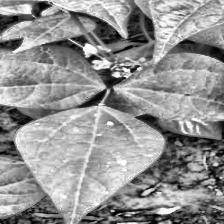Bean Rust: (13, 104, 168, 224)
